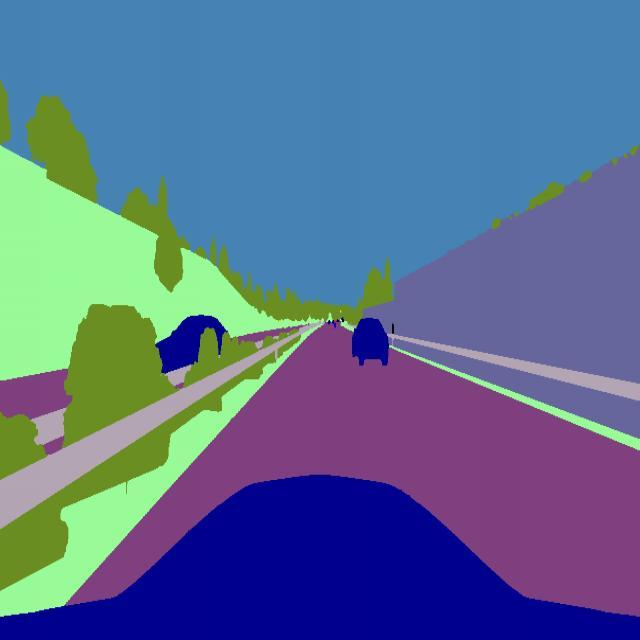safe: (142, 312, 234, 376), (351, 315, 391, 370)
